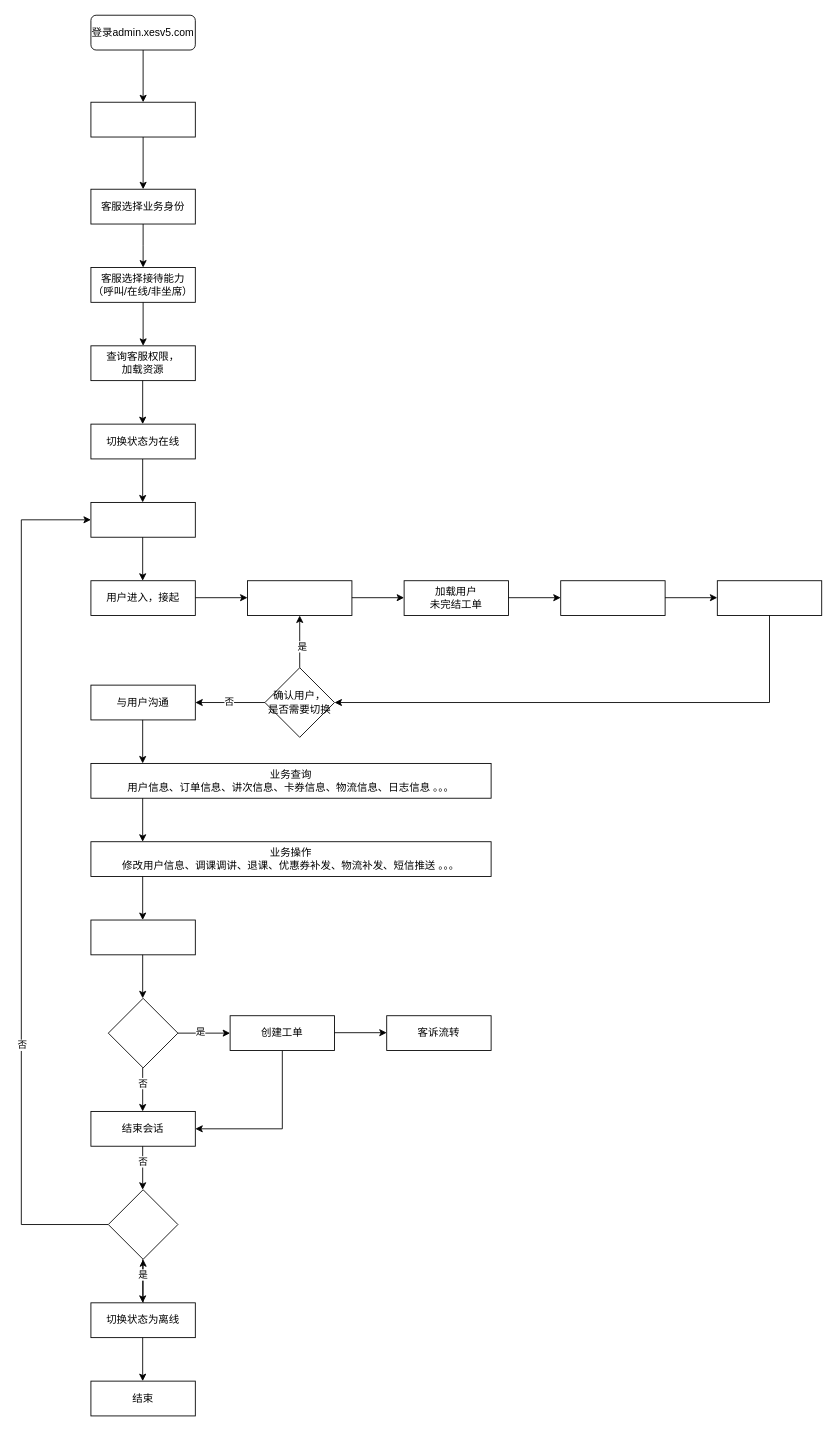
Some shapes in this 837 by 1431 pixel diagram are drawn without their labels. The centre of each missing label's shape, as x and y in pixels:
"下班？" goes at point 142,1224.
"加载用户 最近订单/课程" goes at point 612,598.
"加载用户 服务轨迹" goes at point 769,598.
"弹屏显示 用户信息、标签" goes at point 299,598.
"等待用户进线" goes at point 142,519.
"记录服务总结" goes at point 142,937.
"进入客服工作台 kefu.xesv5.com" goes at point 142,119.
"需要流转 客诉处理？" goes at point 142,1032.
